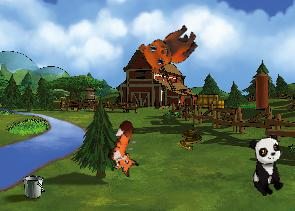bear: (133, 12, 203, 81)
fox: (100, 118, 153, 179)
panda: (247, 134, 287, 197)
